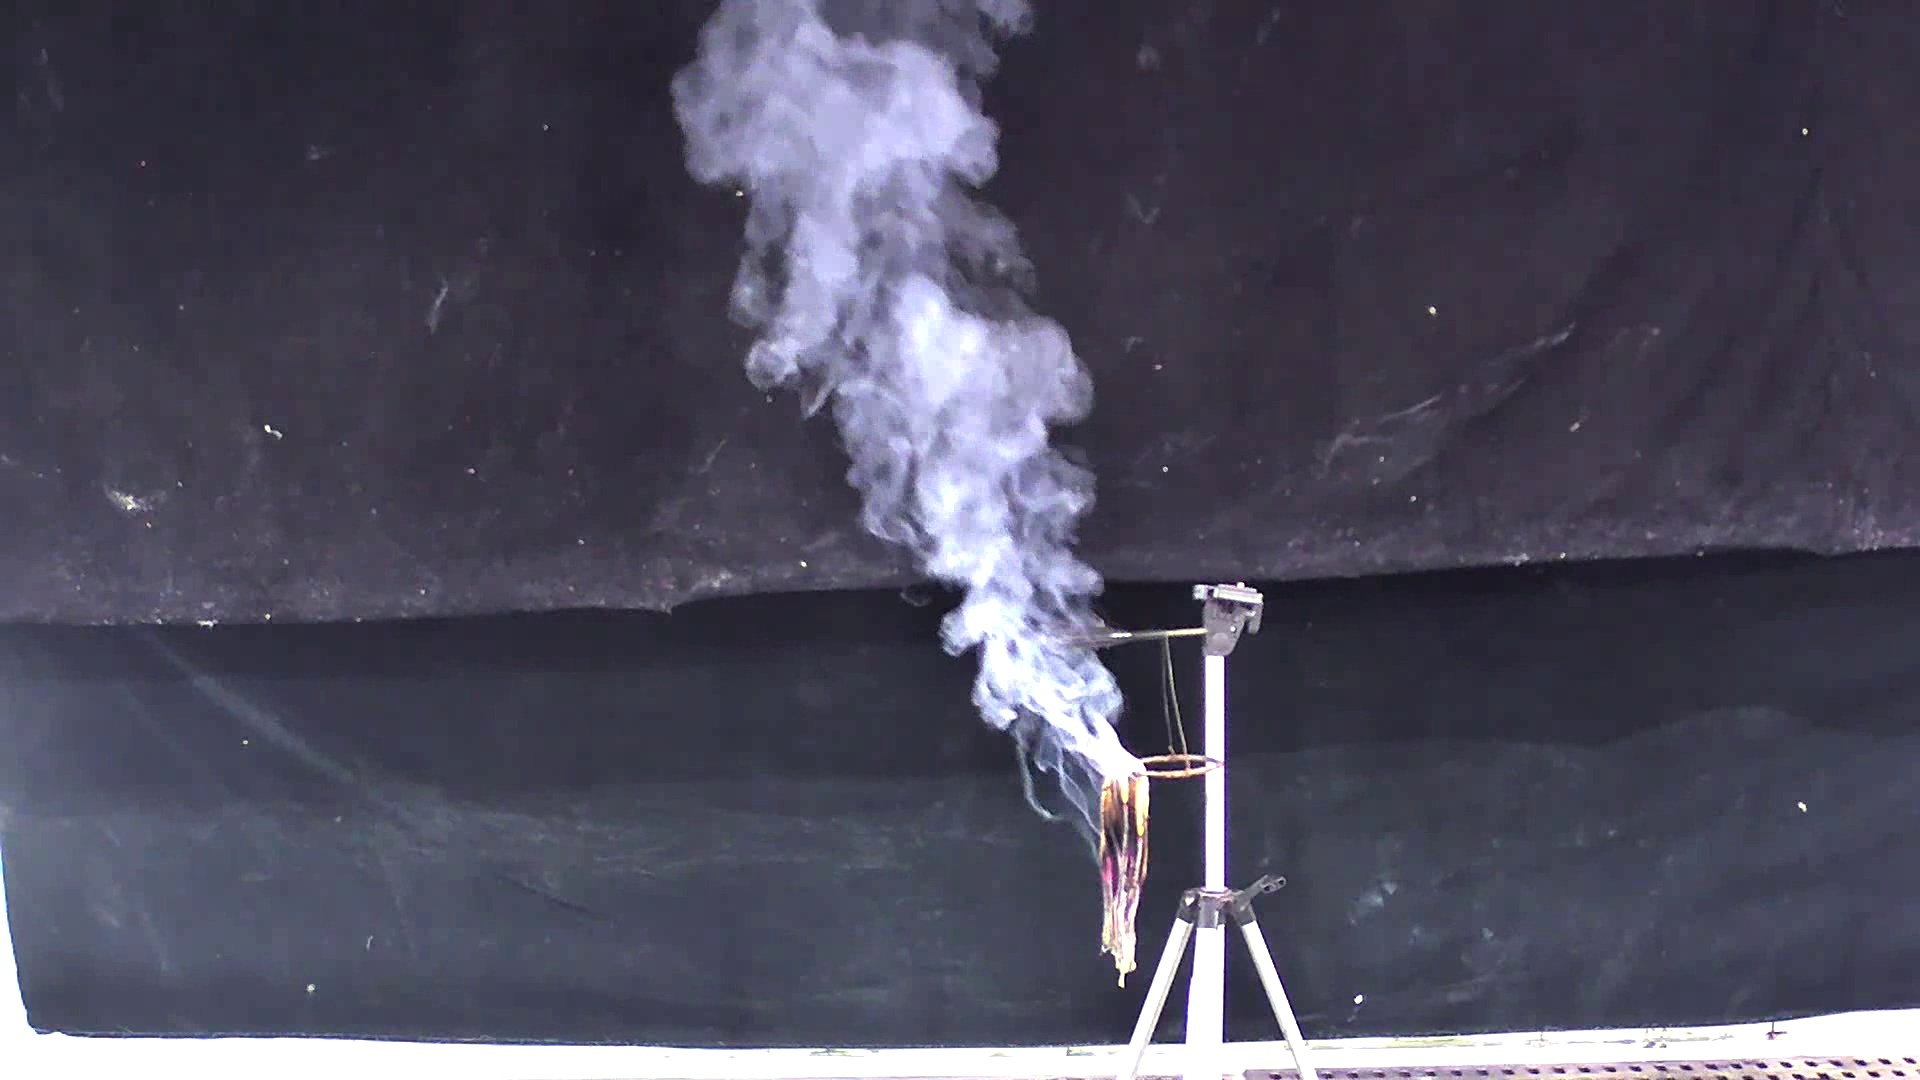smoke: (651, 13, 1156, 822)
